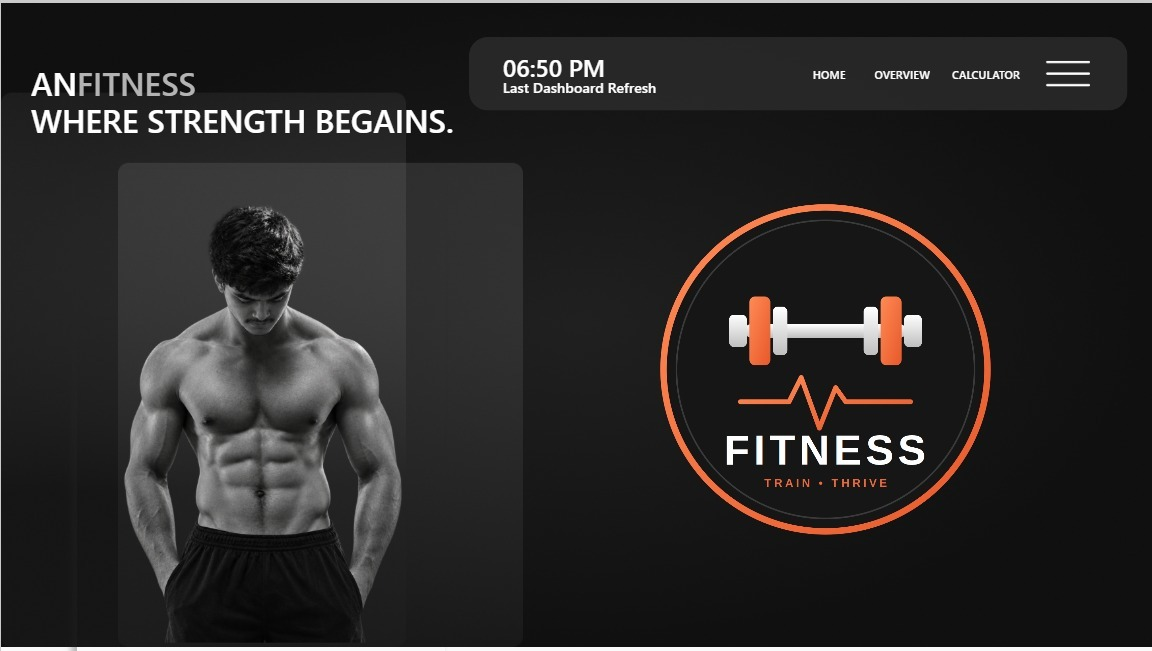

The dashboard page shown, as its layout file describes it:
{"tool":"powerbi","page":{"name":"Home","canvas":[1280,720],"ordinal":0},"visuals":[{"type":"image","box":[112.5,164.7,454.2,454.2],"z":0},{"type":"textbox","box":[566.7,417.2,617.5,108.4],"z":1000},{"type":"image","box":[531,329.3,314.2,87.8],"z":2000},{"type":"pageNavigator","box":[572.2,514.6,399.3,50.8],"z":3000}]}

Visuals, with their boxes in screenshot pixels (x1, y1, x2, y2), scaled from the page's 1280x720 canvas onto the 1152x651 screenshot:
image: (left=101, top=149, right=510, bottom=560)
textbox: (left=510, top=377, right=1066, bottom=475)
image: (left=478, top=298, right=761, bottom=377)
pageNavigator: (left=515, top=465, right=874, bottom=511)
